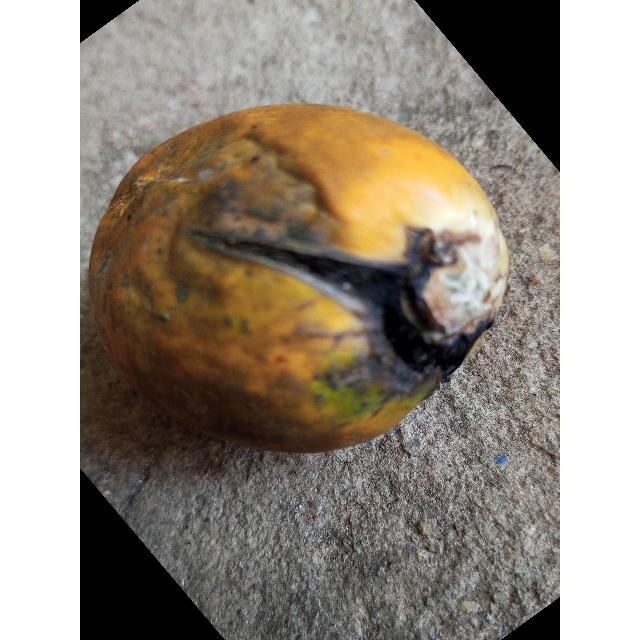damaged: (89, 104, 509, 452)
